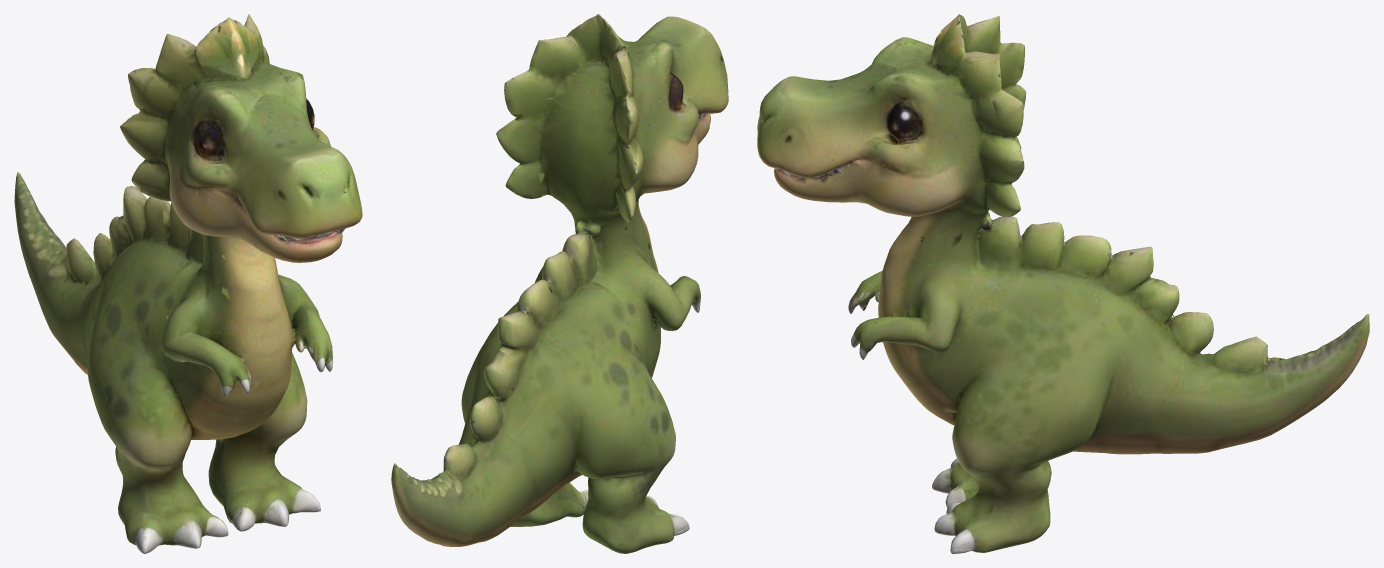
3 renders of one model, left to right at view 1: azimuth 30°, elevation 25°; view 2: azimuth 150°, elevation 25°; view 3: azimuth 270°, elevation 25°, orthographic. The views are drawn at different scales.
Size of the model in its own units: 0.6719 by 1.8 by 1.99.
1 material, 1 textured.
